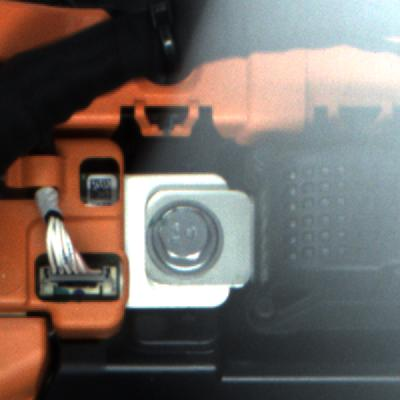nut_b: (146, 199, 226, 283)
